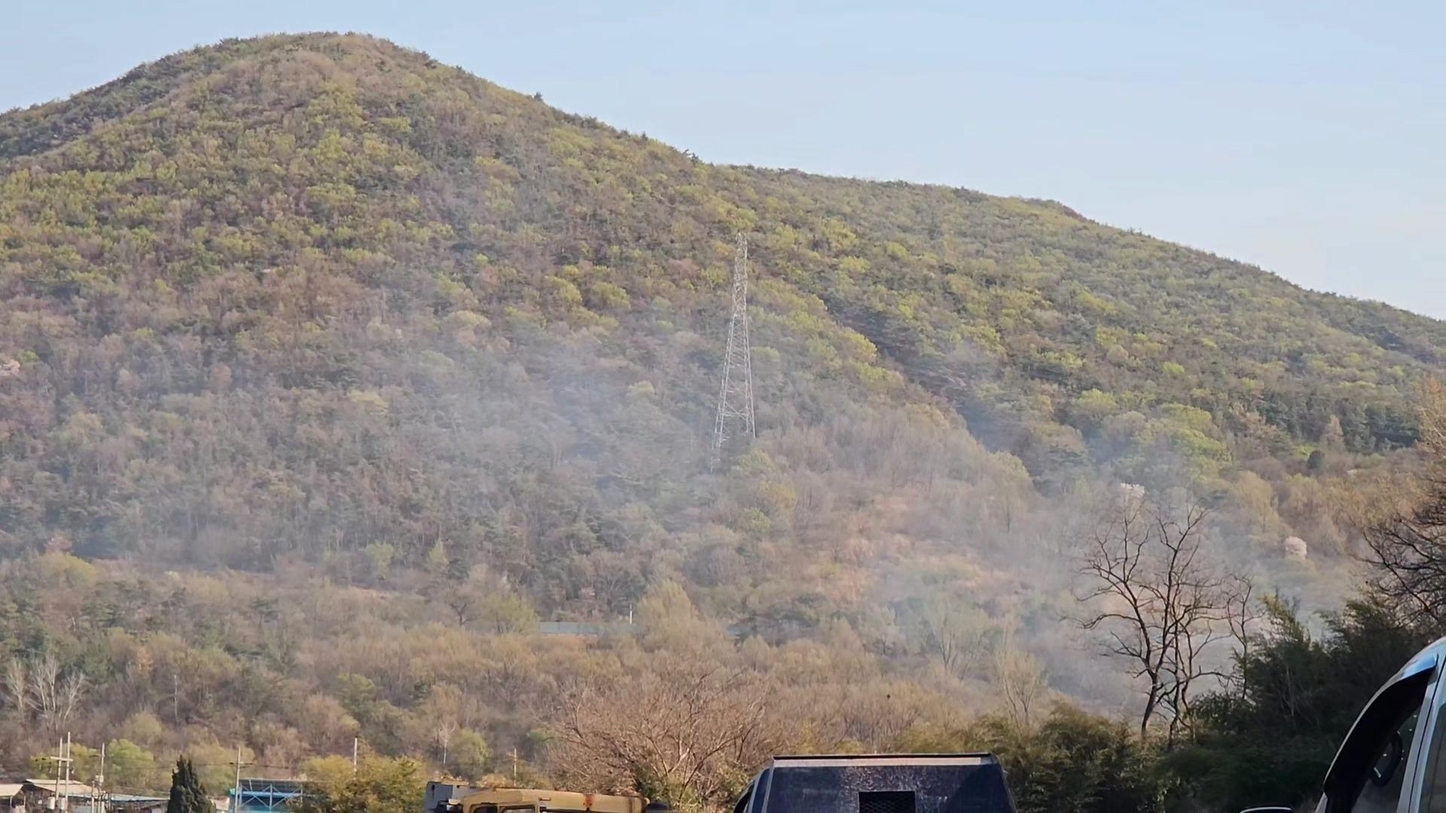smoke: (468, 341, 1379, 730)
